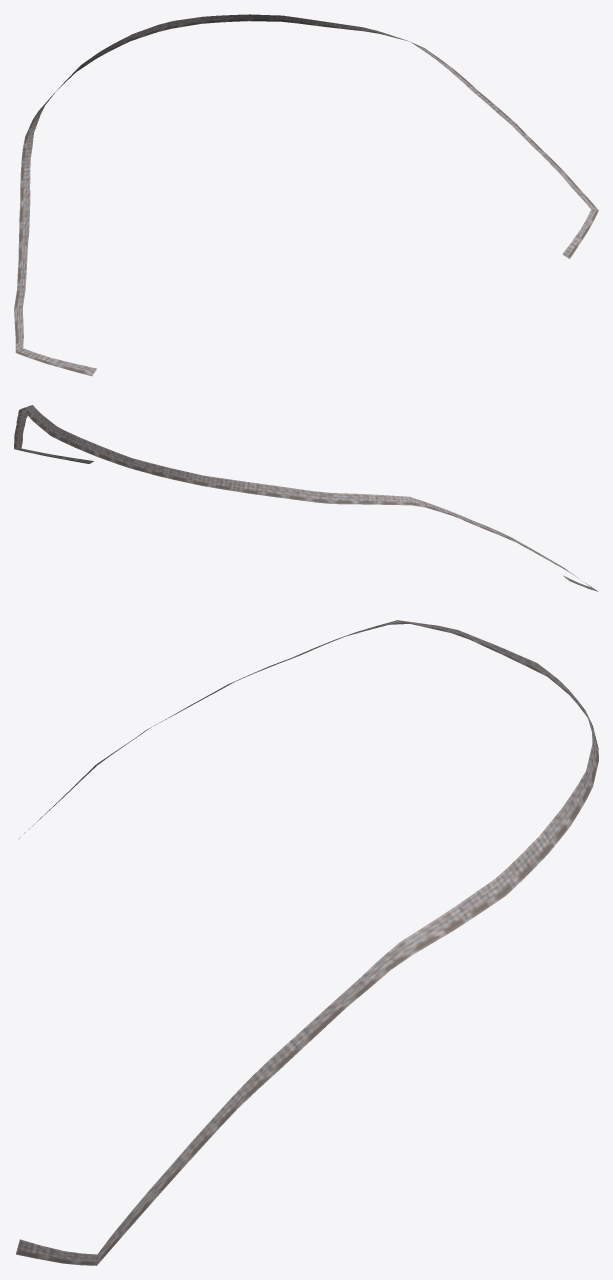
The model's file is Peak_collar_wide_AMF 2mm.glb.
The picture shows the model from 3 angles, top to bottom: view 1: azimuth 30°, elevation 25°; view 2: azimuth 150°, elevation 25°; view 3: azimuth 270°, elevation 25°; orthographic projection. The views are drawn at different scales.
Parts seen in each view (by area): view 1: Peak_collar_wide_AMF; view 2: Peak_collar_wide_AMF; view 3: Peak_collar_wide_AMF.
Boxes of the visible parts, x1,y1,x2,y2 form: Peak_collar_wide_AMF: (14,14,598,376); Peak_collar_wide_AMF: (14,405,598,591); Peak_collar_wide_AMF: (16,620,598,1265).
Size of the model in its own units: 0.0421 by 0.0121 by 0.0207.
Materials: 1 (1 with a texture image).
